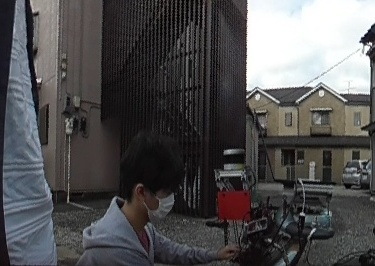person: (83, 131, 196, 266)
